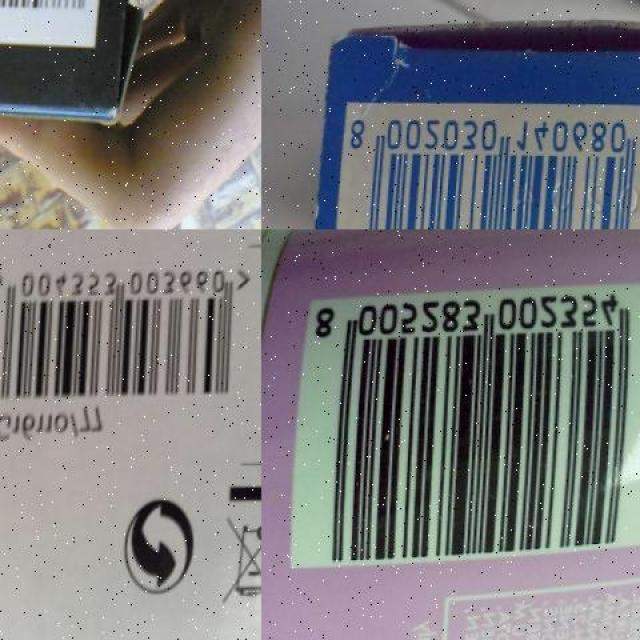Barcode: (292, 283, 640, 569), (0, 248, 261, 472), (324, 107, 640, 229)
